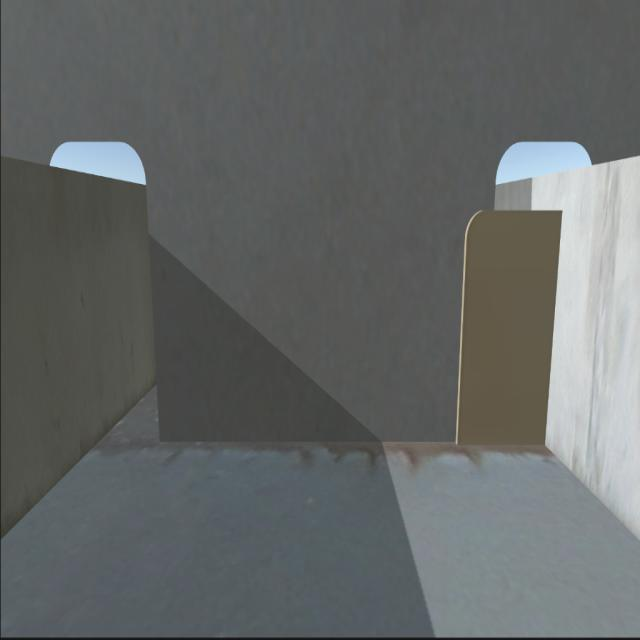fillet_yong_jeop_jang: (159, 434, 547, 452)
longi_yong_jeop_jang: (541, 216, 557, 453)
plate_CP05: (460, 198, 558, 435)
